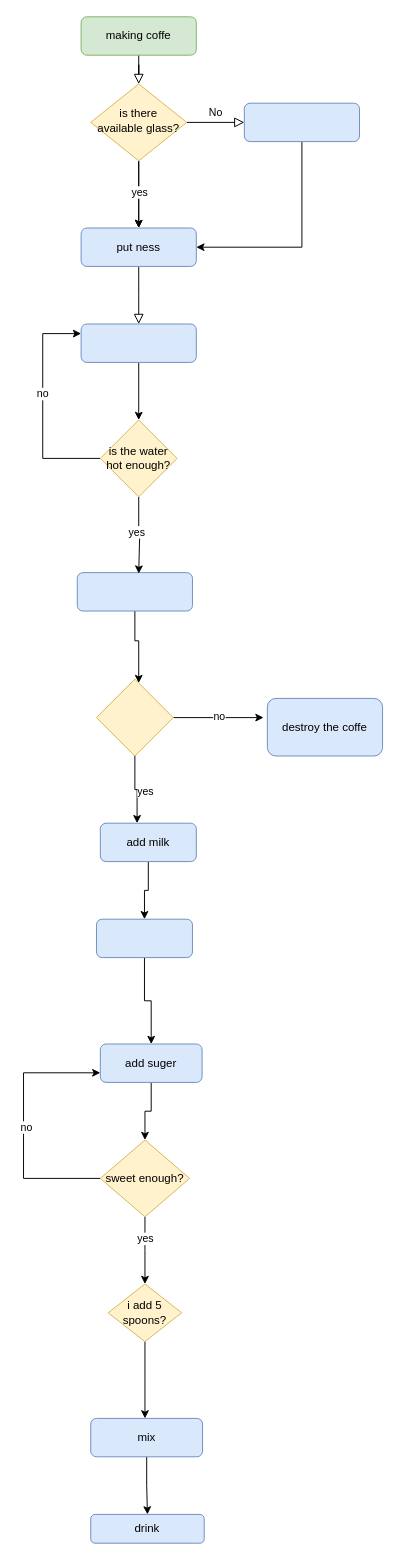
This 399x1560 diagram has some shape labels left out. Each missing label, with the box of its shape:
add water: (76, 572, 192, 611)
boil water: (80, 323, 196, 362)
is there mik?: (96, 678, 173, 756)
take spoon: (96, 918, 192, 958)
wash the glass: (243, 102, 360, 142)
